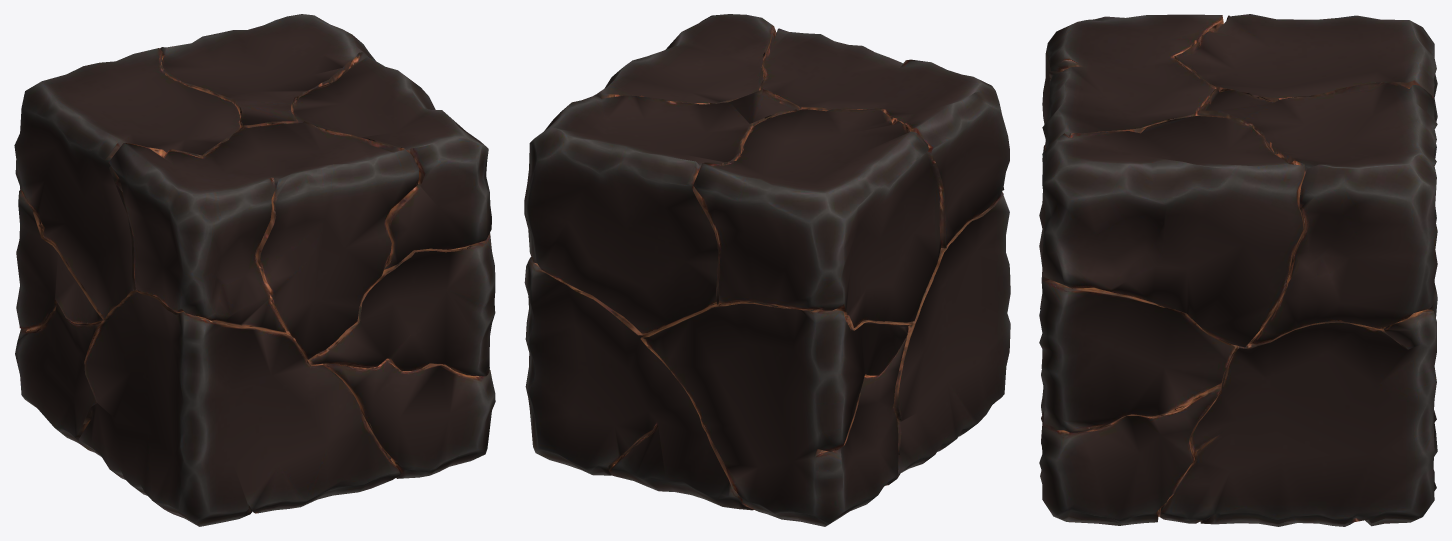
Rendered from original_glb.glb.
3 views of the same model, side by side, from view 1: azimuth 30°, elevation 25°; view 2: azimuth 150°, elevation 25°; view 3: azimuth 270°, elevation 25° (orthographic). The views are drawn at different scales.
Visible parts, largest first — view 1: tile-1024-obsidian; view 2: tile-1024-obsidian; view 3: tile-1024-obsidian.
Boxes of the visible parts, x1=… form: tile-1024-obsidian: x1=14, y1=14, x2=495, y2=526; tile-1024-obsidian: x1=524, y1=14, x2=1010, y2=526; tile-1024-obsidian: x1=1039, y1=14, x2=1437, y2=526.
Size of the model in its own units: 0.998 by 0.998 by 0.998.
1 material, 1 textured.
